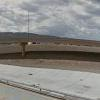Bridge: (8, 29, 89, 66)
